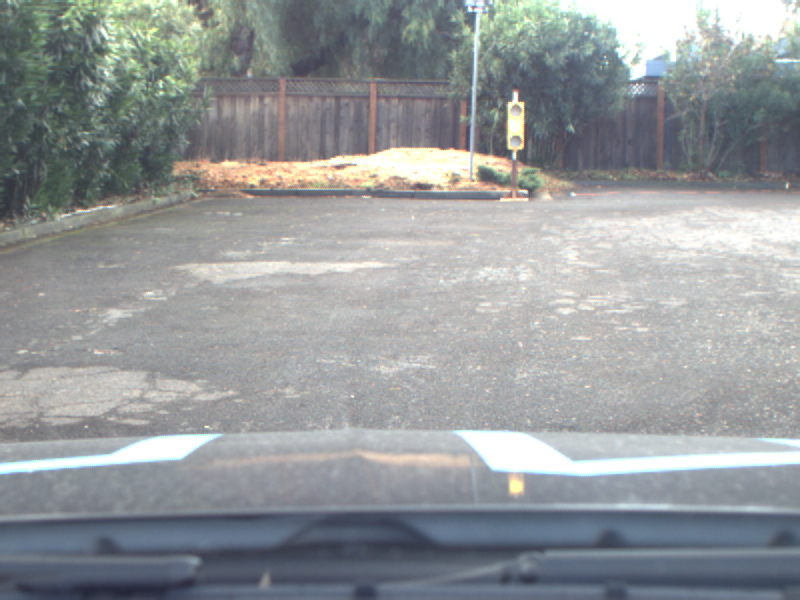Yellow: (507, 102, 524, 150)
